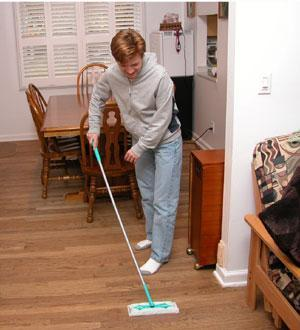person: (87, 27, 183, 278)
